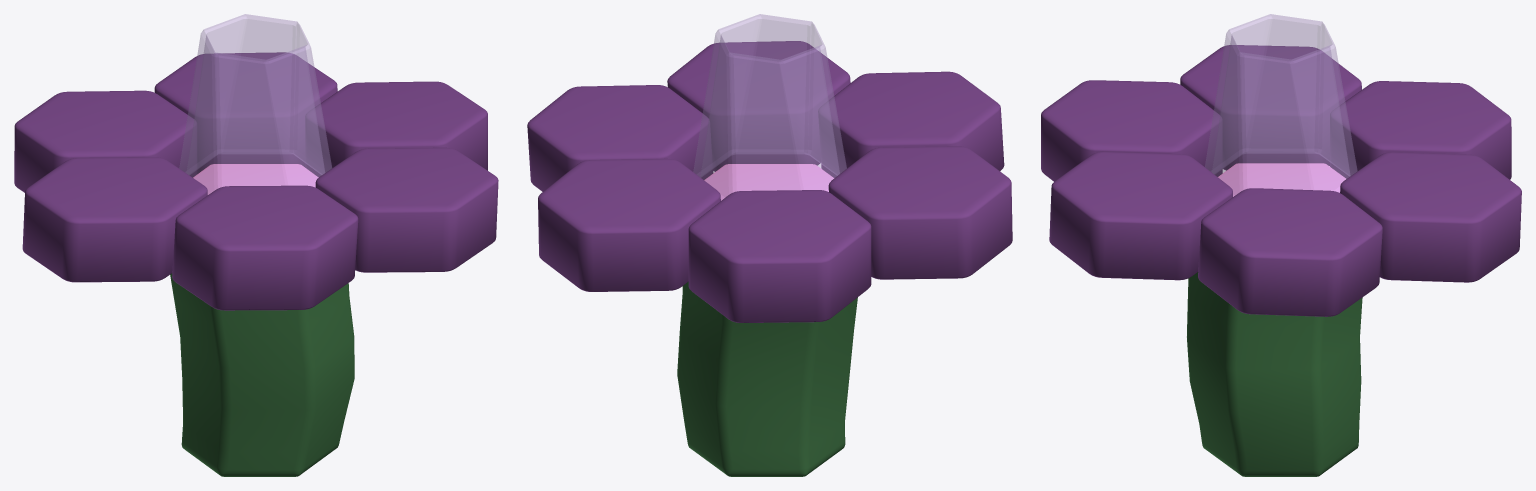
The model's file is flower.glb.
3 views of the same model, side by side, from view 1: azimuth 30°, elevation 25°; view 2: azimuth 150°, elevation 25°; view 3: azimuth 270°, elevation 25° (orthographic).
Parts seen in each view (by area): view 1: Hexagon.001, Stalk, Hologram; view 2: Hexagon.001, Stalk, Hologram; view 3: Hexagon.001, Stalk, Hologram.
Boxes of the visible parts, bbox=[...] form: Hexagon.001: bbox=[14, 52, 498, 310]; Stalk: bbox=[170, 164, 354, 476]; Hologram: bbox=[179, 14, 331, 194]; Hexagon.001: bbox=[527, 41, 1012, 322]; Stalk: bbox=[677, 164, 857, 476]; Hologram: bbox=[693, 14, 846, 200]; Hexagon.001: bbox=[1041, 45, 1521, 316]; Stalk: bbox=[1187, 163, 1362, 476]; Hologram: bbox=[1205, 14, 1357, 196].
Size of the model in its own units: 0.0532 by 0.0486 by 0.0514.
